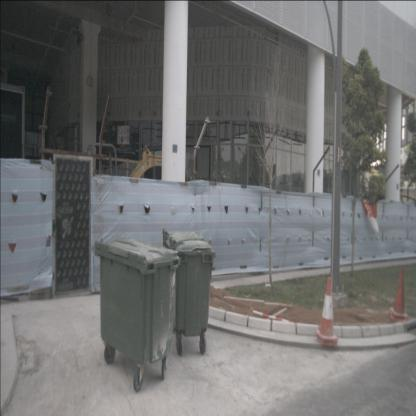movable_object-trafficcone: (316, 276, 340, 347), (388, 266, 409, 324)
